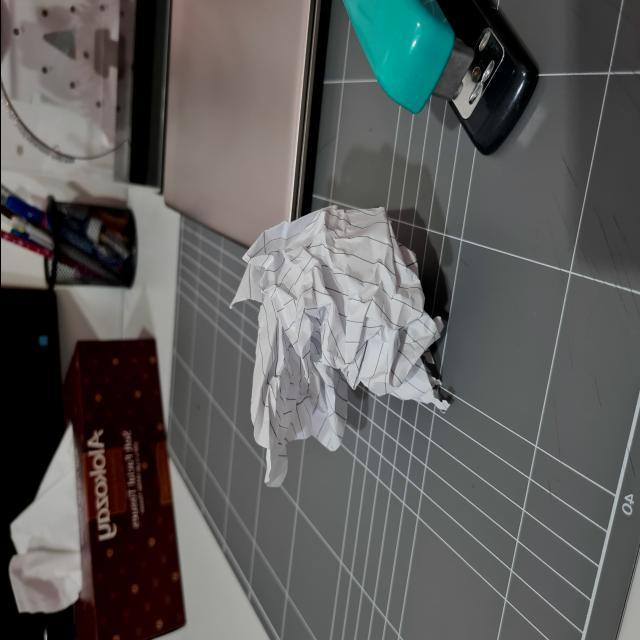Paper: (216, 199, 424, 439)
